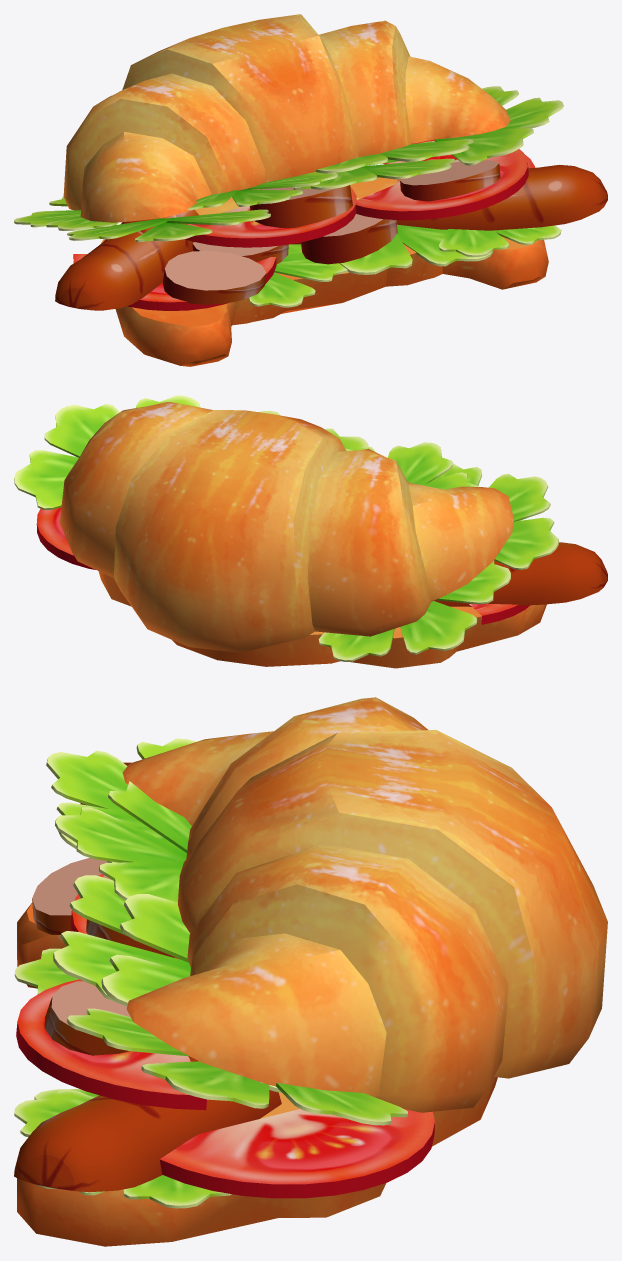
File: Lab_11_croissant_sausage low.fbx
3 views of the same model, one above another, from view 1: azimuth 30°, elevation 25°; view 2: azimuth 150°, elevation 25°; view 3: azimuth 270°, elevation 25° (orthographic). The views are drawn at different scales.
Visible parts, largest first — view 1: Circle.058, Circle.062, sausgae.007, sausgae.002, sausgae.024, Circle.075, Circle.073, Circle.068, Circle.064, Circle.071, sausgae.005, sausgae.006 (+9 smaller); view 2: Circle.058, Circle.062, Circle.074, Circle.073, sausgae.007, Circle.071, Circle.069, Circle.059, Circle.063, Circle.072; view 3: Circle.058, Circle.059, Circle.062, sausgae.002, Circle.069, Circle.073, Circle.075, Circle.070, Circle.072, Circle.071, Circle.067, sausgae.023 (+3 smaller).
Boxes of the visible parts, left/top/right/bottom form: Circle.058: left=63, top=14, right=510, bottom=222; Circle.062: left=101, top=177, right=548, bottom=366; sausgae.007: left=55, top=209, right=198, bottom=310; sausgae.002: left=396, top=165, right=607, bottom=230; sausgae.024: left=162, top=250, right=266, bottom=304; Circle.075: left=356, top=149, right=528, bottom=220; Circle.073: left=435, top=86, right=563, bottom=165; Circle.068: left=185, top=188, right=356, bottom=247; Circle.064: left=339, top=224, right=492, bottom=274; Circle.071: left=67, top=209, right=270, bottom=242; sausgae.005: left=301, top=199, right=397, bottom=264; sausgae.006: left=250, top=185, right=352, bottom=227; Circle.058: left=60, top=402, right=513, bottom=652; Circle.062: left=98, top=571, right=546, bottom=668; Circle.074: left=318, top=560, right=510, bottom=661; Circle.073: left=14, top=395, right=200, bottom=509; sausgae.007: left=434, top=542, right=607, bottom=606; Circle.071: left=431, top=463, right=558, bottom=570; Circle.069: left=345, top=442, right=479, bottom=489; Circle.059: left=36, top=507, right=95, bottom=569; Circle.063: left=469, top=604, right=529, bottom=624; Circle.072: left=259, top=410, right=368, bottom=450; Circle.058: left=122, top=697, right=607, bottom=1112; Circle.059: left=160, top=1109, right=434, bottom=1198; Circle.062: left=17, top=902, right=497, bottom=1246; sausgae.002: left=14, top=1056, right=281, bottom=1192; Circle.069: left=55, top=781, right=191, bottom=902; Circle.073: left=66, top=1008, right=407, bottom=1125; Circle.075: left=16, top=979, right=206, bottom=1110; Circle.070: left=101, top=894, right=281, bottom=1092; Circle.072: left=53, top=875, right=190, bottom=1001; Circle.071: left=46, top=738, right=196, bottom=862; Circle.067: left=14, top=1089, right=231, bottom=1208; sausgae.023: left=44, top=981, right=130, bottom=1055.
Size of the model in its own units: 7.73 by 3.03 by 4.8.
